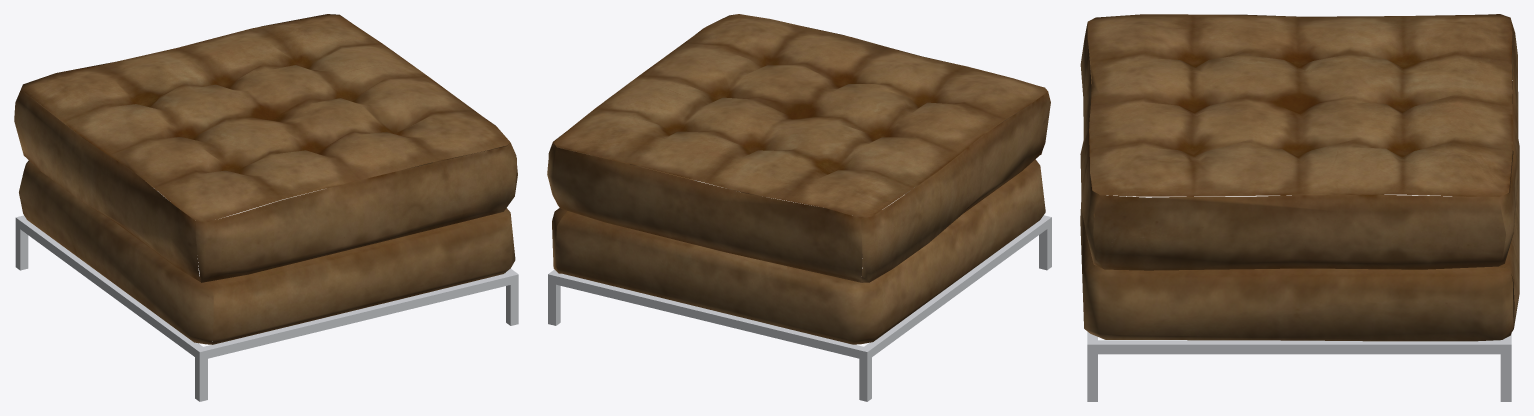
The model's file is Ottoman Old.glb.
3 views of the same model, side by side, from view 1: azimuth 30°, elevation 25°; view 2: azimuth 150°, elevation 25°; view 3: azimuth 270°, elevation 25° (orthographic). The views are drawn at different scales.
Parts seen in each view (by area): view 1: Object_2; view 2: Object_2; view 3: Object_2.
Part boxes in pixels (<box>): Object_2: <box>14,14,518,401</box>; Object_2: <box>547,14,1051,401</box>; Object_2: <box>1080,14,1519,401</box>.
Bounding box in the file's own units: 0.875 × 0.482 × 0.8731.
Materials: 1 (1 with a texture image).
